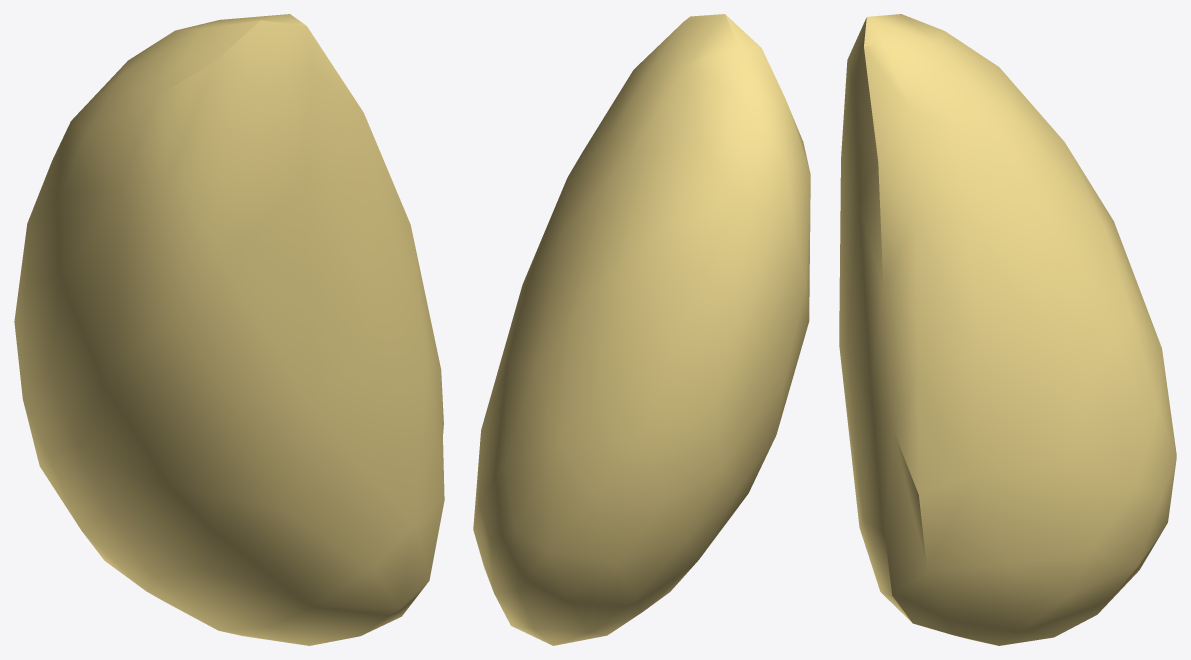
Rendered from fma54564_mm3502.glb.
3 views of the same model, side by side, from view 1: azimuth 30°, elevation 25°; view 2: azimuth 150°, elevation 25°; view 3: azimuth 270°, elevation 25° (orthographic). The views are drawn at different scales.
Parts seen in each view (by area): view 1: FMA54564_MM3502; view 2: FMA54564_MM3502; view 3: FMA54564_MM3502.
Part boxes in pixels (x1=…): FMA54564_MM3502: x1=14, y1=14, x2=444, y2=645; FMA54564_MM3502: x1=473, y1=14, x2=810, y2=645; FMA54564_MM3502: x1=839, y1=14, x2=1176, y2=645.
Size of the model in its own units: 0.00202 by 0.00372 by 0.00198.
